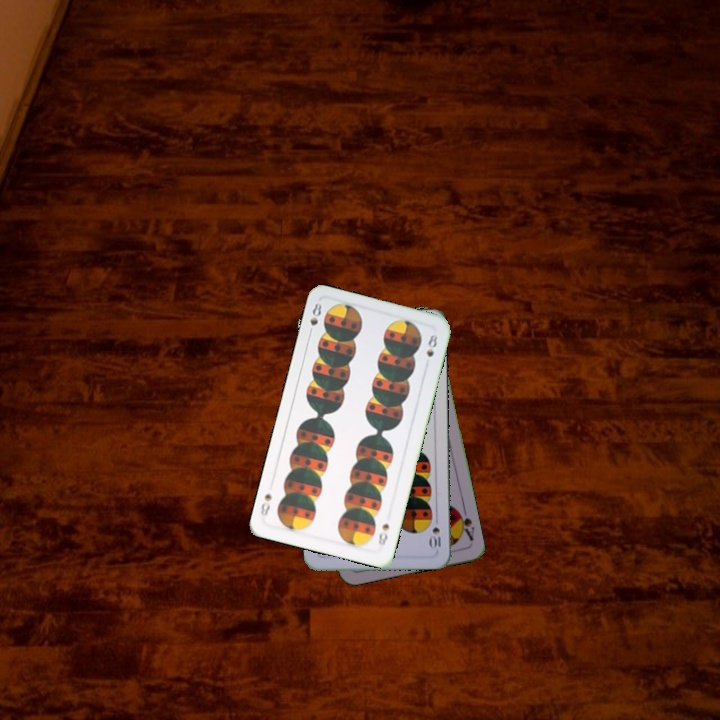S10: (427, 523, 443, 552)
S8: (305, 299, 324, 339), (374, 519, 392, 549)
SA: (453, 505, 477, 543)
